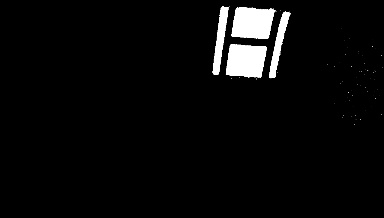H: (213, 7, 289, 77)
